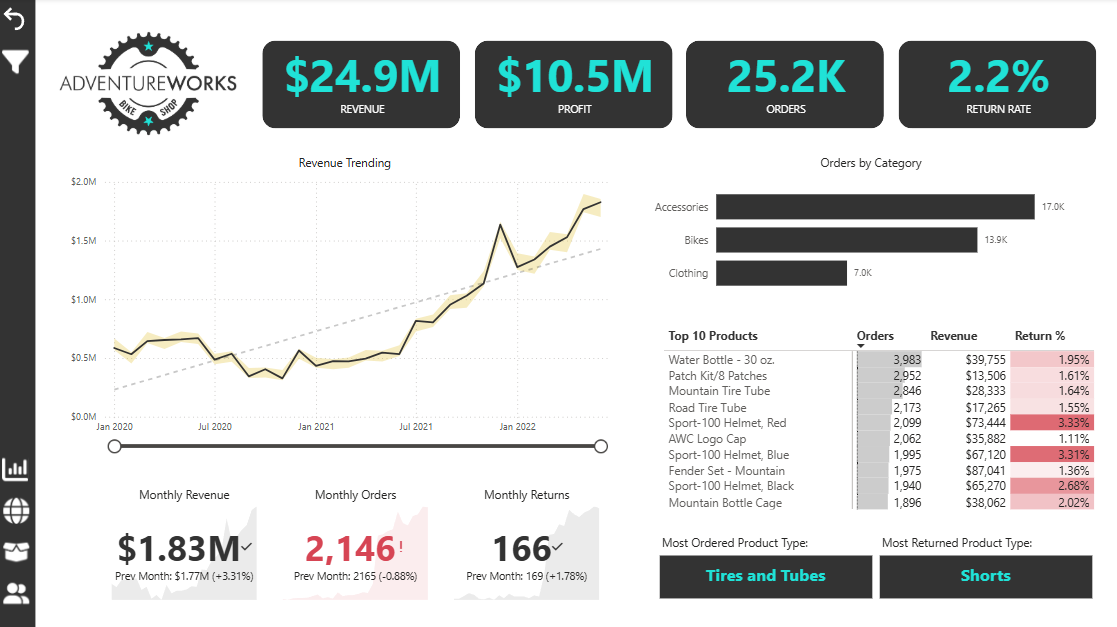

The dashboard page shown, as its layout file describes it:
{"tool":"powerbi","page":{"name":"Exec Dashboard","canvas":[1280,720],"ordinal":0},"visuals":[{"type":"card","fields":{"Values":["Measure Table.Total Revenue"]},"box":[288.1,17.8,256.2,150],"z":0,"group":"g2"},{"type":"image","title":"AW Logo","box":[45.6,26.6,256.2,141.2],"z":0},{"type":"shape","box":[303.1,47.8,225,100],"z":0,"group":"g1"},{"type":"actionButton","box":[2.5,516.7,45.6,37.8],"z":0,"group":"g3"},{"type":"card","fields":{"Values":["Measure Table.Total Profit"]},"box":[528.9,17.8,256.2,150],"z":1000,"group":"g2"},{"type":"shape","box":[543.9,47.8,225,100],"z":1000,"group":"g1"},{"type":"actionButton","box":[3.3,563.4,45.6,37.8],"z":1000,"group":"g3"},{"type":"card","fields":{"Values":["Measure Table.Total Orders"]},"box":[769.8,17.8,256.2,150],"z":2000,"group":"g2"},{"type":"group","id":"g1","title":"KPI Backgrounds","box":[303.1,47.8,947.5,100],"z":2000},{"type":"shape","box":[784.8,47.8,225,100],"z":2000,"group":"g1"},{"type":"actionButton","box":[3.3,611.1,45.6,37.8],"z":2000,"group":"g3"},{"type":"shape","title":"Left Nav Background","box":[0,0,45,720],"z":3000},{"type":"card","fields":{"Values":["Measure Table.Return Rate"]},"box":[1010.6,17.8,256.2,150],"z":3000,"group":"g2"},{"type":"shape","box":[1025.6,47.8,225,100],"z":3000,"group":"g1"},{"type":"actionButton","box":[3.3,657.8,45.6,37.8],"z":3000,"group":"g3"},{"type":"group","id":"g2","title":"KPI Values","box":[288.1,17.8,978.8,150],"z":4000},{"type":"lineChart","title":"Revenue Trending","fields":{"Category":["Calendar Lookup.Start of Month"],"Y":["Measure Table.Total Revenue"]},"box":[78.9,177.7,633.8,342.5],"z":5000},{"type":"kpi","title":"Monthly Revenue","fields":{"Goal":["Measure Table.Previous Month Revenue"],"Indicator":["Measure Table.Total Revenue"],"TrendLine":["Calendar Lookup.Start of Month"]},"box":[126.2,555,175,133.8],"z":6000},{"type":"kpi","title":"Monthly Orders","fields":{"Goal":["Measure Table.Previous Month Orders"],"Indicator":["Measure Table.Total Orders"],"TrendLine":["Calendar Lookup.Start of Month"]},"box":[321.2,555,175,133.8],"z":7000},{"type":"kpi","title":"Monthly Returns","fields":{"Goal":["Measure Table.Previous Month Returns"],"Indicator":["Measure Table.Total Returns"],"TrendLine":["Calendar Lookup.Start of Month"]},"box":[516.2,555,175,133.8],"z":8000},{"type":"clusteredBarChart","title":"Orders by Category","fields":{"Category":["Product Categories Lookup.CategoryName"],"Y":["Measure Table.Total Orders"]},"box":[738.9,177.7,511.2,171.2],"z":9000},{"type":"pivotTable","fields":{"Rows":["Product Lookup.ProductName"],"Values":["Measure Table.Total Orders","Measure Table.Total Revenue","Measure Table.Return Rate"]},"box":[753.7,369.2,511.1,228.4],"z":10000},{"type":"card","fields":{"Values":["Min(Product Subcategories Lookup.SubcategoryName)"]},"box":[753.7,634.2,241.4,48.5],"z":11000},{"type":"textbox","box":[751.3,604.6,198.8,35.5],"z":12000},{"type":"card","fields":{"Values":["Min(Product Subcategories Lookup.SubcategoryName)"]},"box":[1004.1,634.2,241.4,48.5],"z":13000},{"type":"textbox","box":[1002.2,605.2,198.8,35.5],"z":14000},{"type":"actionButton","box":[3.3,5.6,35.6,35.6],"z":15000},{"type":"group","id":"g3","title":"Navigation Buttons","box":[2.5,516.7,46.4,178.9],"z":16000},{"type":"actionButton","box":[3.4,53.1,38.4,39.6],"z":17000}]}

Visuals, with their boxes on the page's 1280x720 design canvas (x1, y1, x2, y2). These are canvas units, not pixel positions in the 1117x627 screenshot, which may show the page scaled, cropped or inside an application window:
card - Measure Table.Total Revenue: bbox=(288, 18, 544, 168)
"AW Logo" image: bbox=(46, 27, 302, 168)
shape: bbox=(303, 48, 528, 148)
actionButton: bbox=(2, 517, 48, 554)
card - Measure Table.Total Profit: bbox=(529, 18, 785, 168)
shape: bbox=(544, 48, 769, 148)
actionButton: bbox=(3, 563, 49, 601)
card - Measure Table.Total Orders: bbox=(770, 18, 1026, 168)
"KPI Backgrounds" group: bbox=(303, 48, 1251, 148)
shape: bbox=(785, 48, 1010, 148)
actionButton: bbox=(3, 611, 49, 649)
"Left Nav Background" shape: bbox=(0, 0, 45, 720)
card - Measure Table.Return Rate: bbox=(1011, 18, 1267, 168)
shape: bbox=(1026, 48, 1251, 148)
actionButton: bbox=(3, 658, 49, 696)
"KPI Values" group: bbox=(288, 18, 1267, 168)
"Revenue Trending" lineChart: bbox=(79, 178, 713, 520)
"Monthly Revenue" kpi: bbox=(126, 555, 301, 689)
"Monthly Orders" kpi: bbox=(321, 555, 496, 689)
"Monthly Returns" kpi: bbox=(516, 555, 691, 689)
"Orders by Category" clusteredBarChart: bbox=(739, 178, 1250, 349)
pivotTable - Product Lookup.ProductName x Measure Table.Total Orders: bbox=(754, 369, 1265, 598)
card - Min(Product Subcategories Lookup.SubcategoryName): bbox=(754, 634, 995, 683)
textbox: bbox=(751, 605, 950, 640)
card - Min(Product Subcategories Lookup.SubcategoryName): bbox=(1004, 634, 1246, 683)
textbox: bbox=(1002, 605, 1201, 641)
actionButton: bbox=(3, 6, 39, 41)
"Navigation Buttons" group: bbox=(2, 517, 49, 696)
actionButton: bbox=(3, 53, 42, 93)
